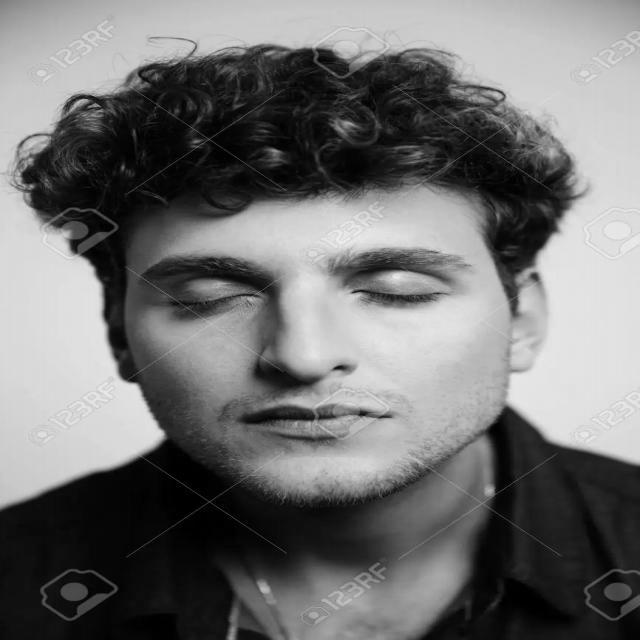real: (102, 160, 553, 515), (118, 244, 495, 328)
